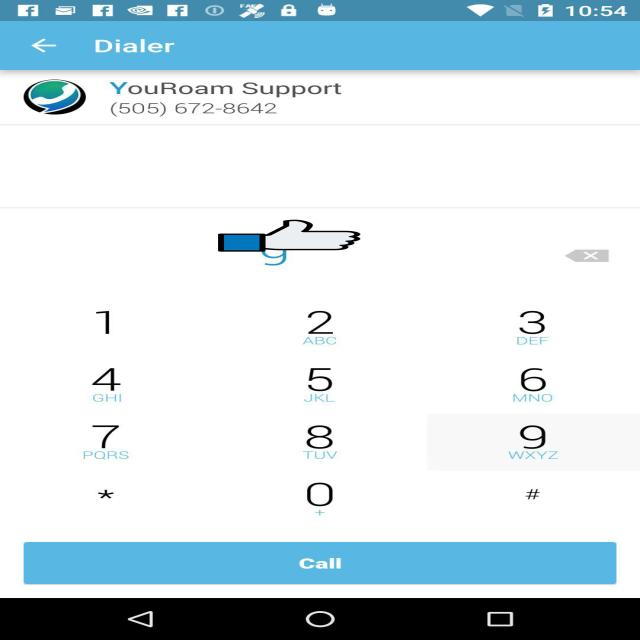privacy zuckering: (218, 219, 360, 252)
